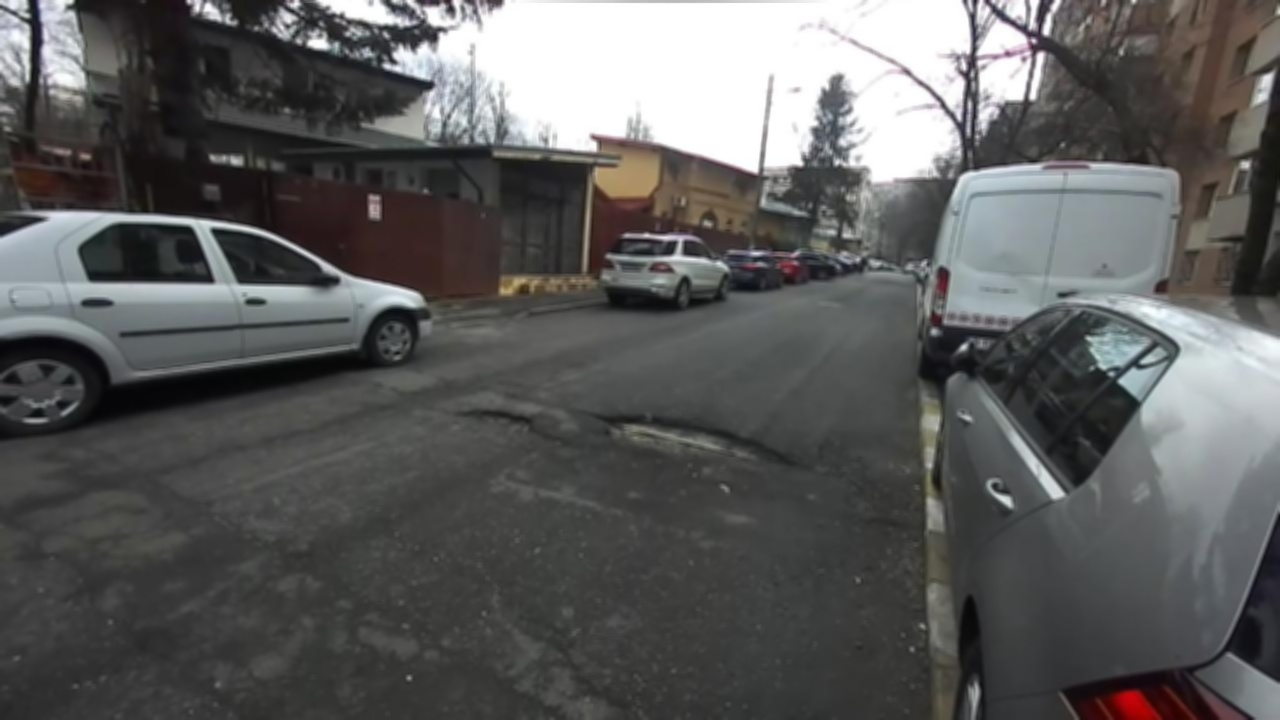pothole: (578, 403, 809, 475), (448, 403, 567, 445)
